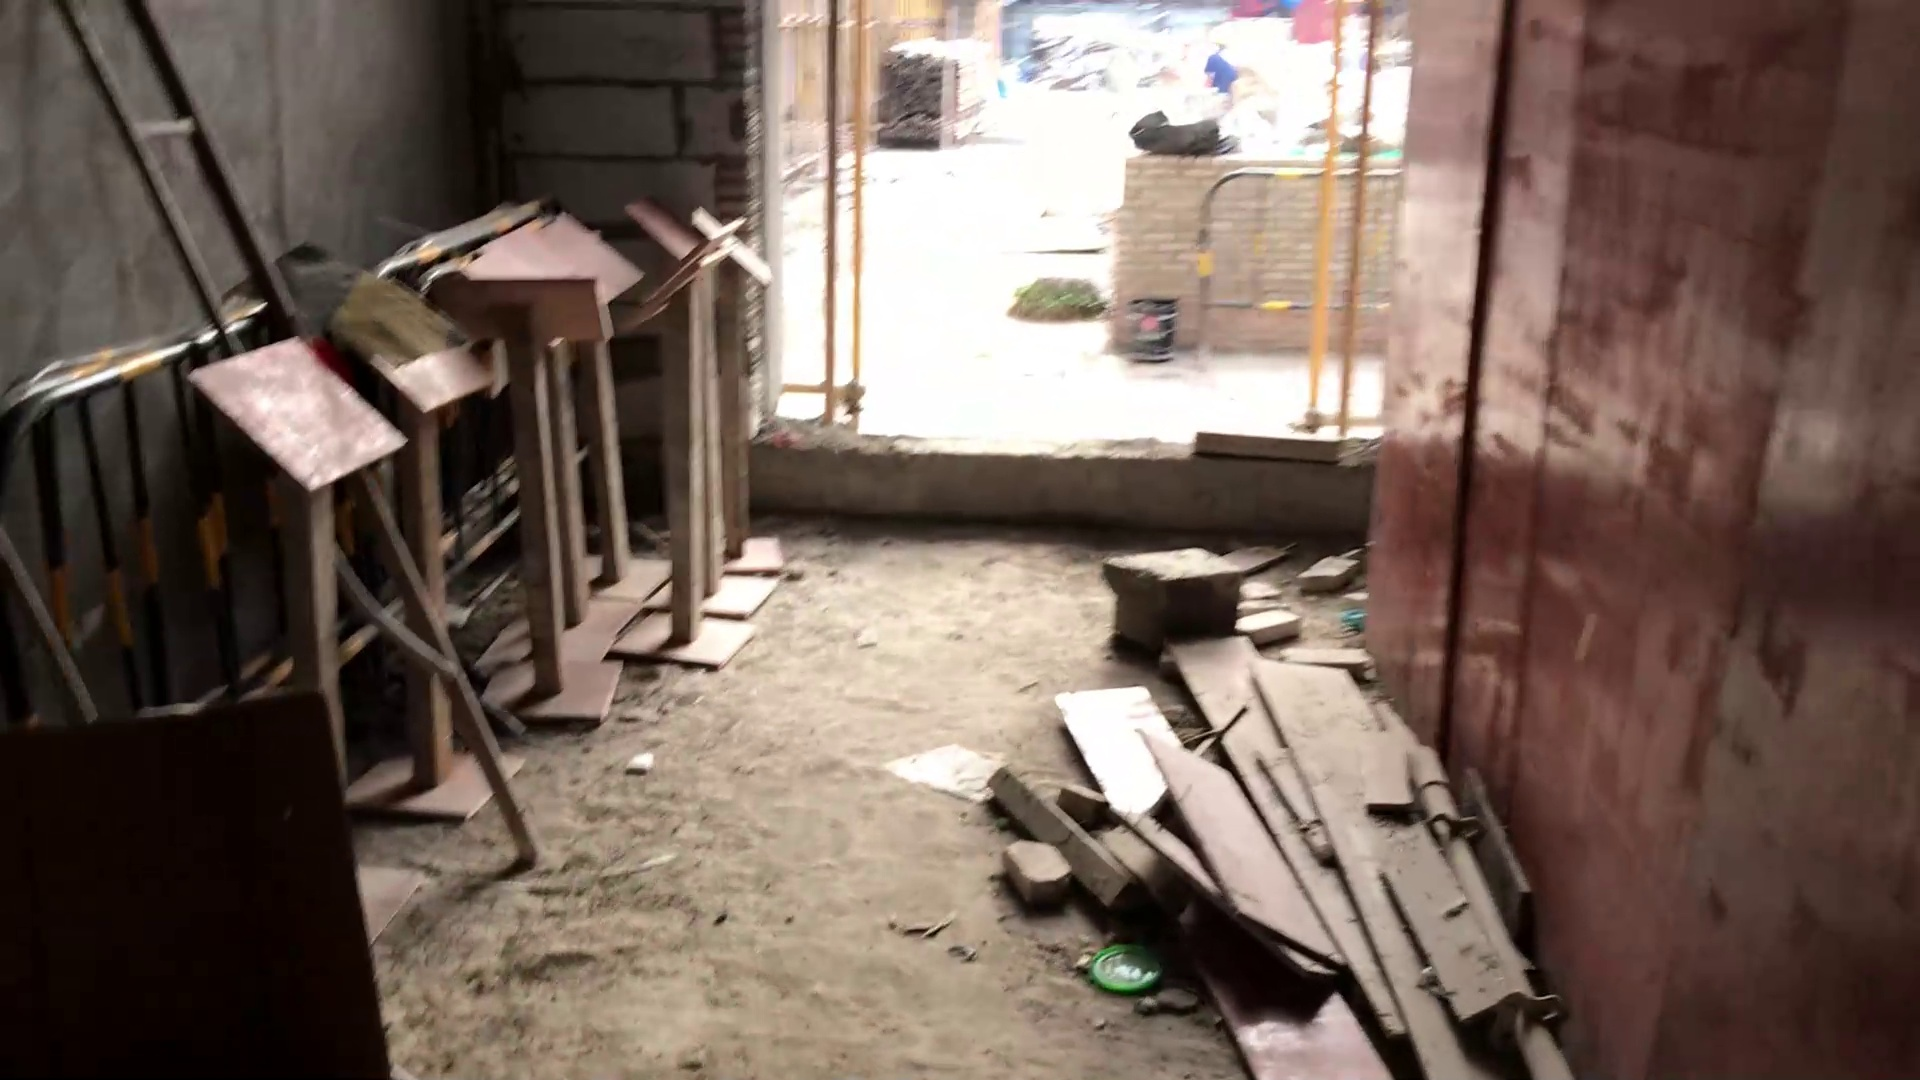fence: (1182, 160, 1406, 360)
